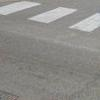Crosswalk: (2, 2, 97, 47)
